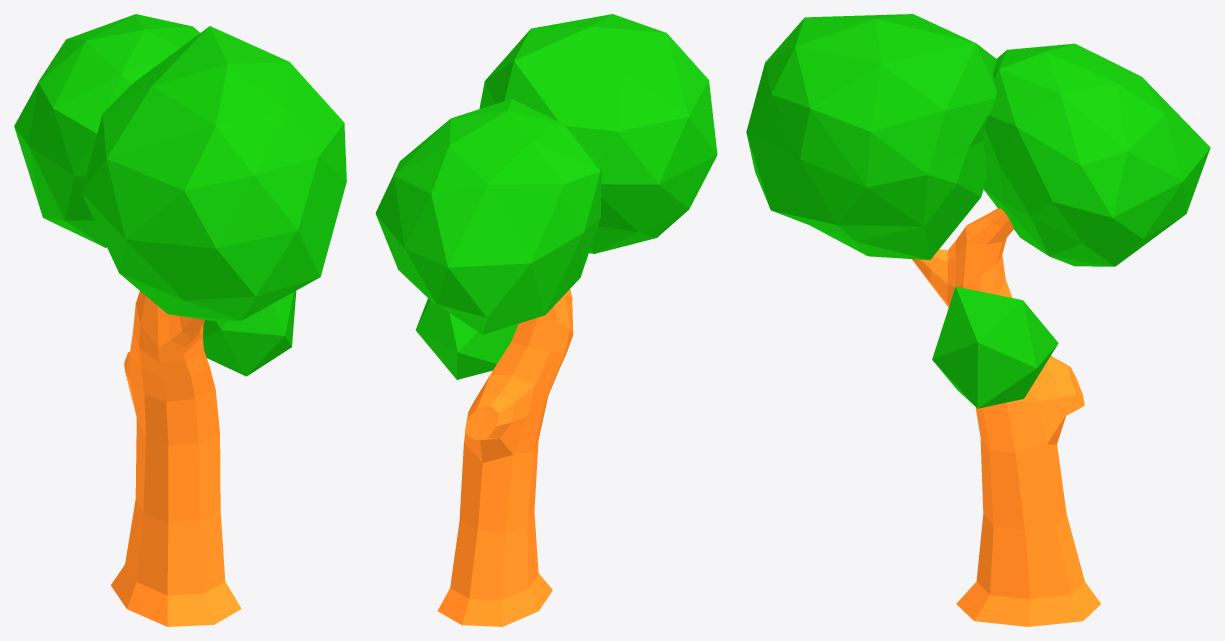
The model's file is tree_1.gltf.
3 views of the same model, side by side, from view 1: azimuth 30°, elevation 25°; view 2: azimuth 150°, elevation 25°; view 3: azimuth 270°, elevation 25° (orthographic). The views are drawn at different scales.
Visible parts, largest first — view 1: Leaves, Tree_1; view 2: Leaves, Tree_1; view 3: Leaves, Tree_1.
Boxes of the visible parts, x1,y1,x2,y2 form: Leaves: [14, 14, 346, 376]; Tree_1: [111, 291, 241, 626]; Leaves: [375, 14, 717, 379]; Tree_1: [437, 289, 573, 626]; Leaves: [746, 14, 1210, 408]; Tree_1: [912, 208, 1100, 626].
Size of the model in its own units: 530 by 1232 by 906.
